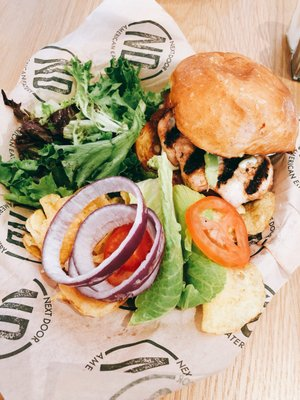soup: (148, 51, 299, 247)
